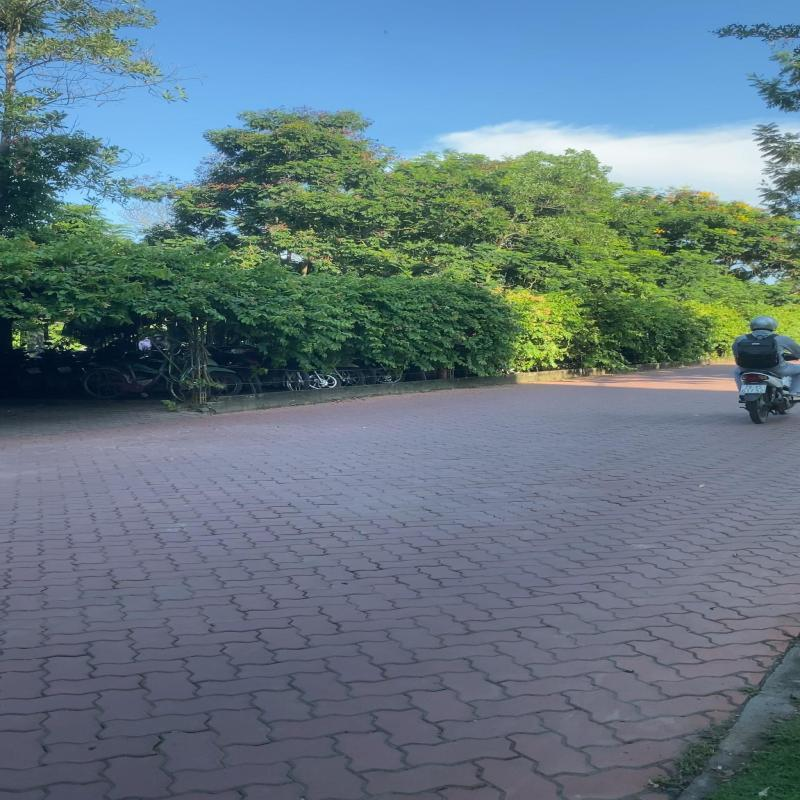helmet: (750, 316, 778, 332)
licenseplate: (740, 384, 768, 393)
motorcyclist: (730, 315, 799, 424)
